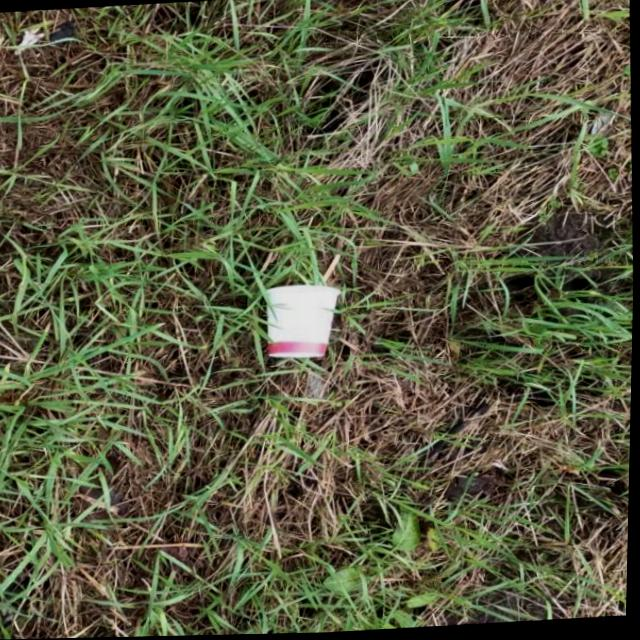Cup: (264, 282, 346, 362)
